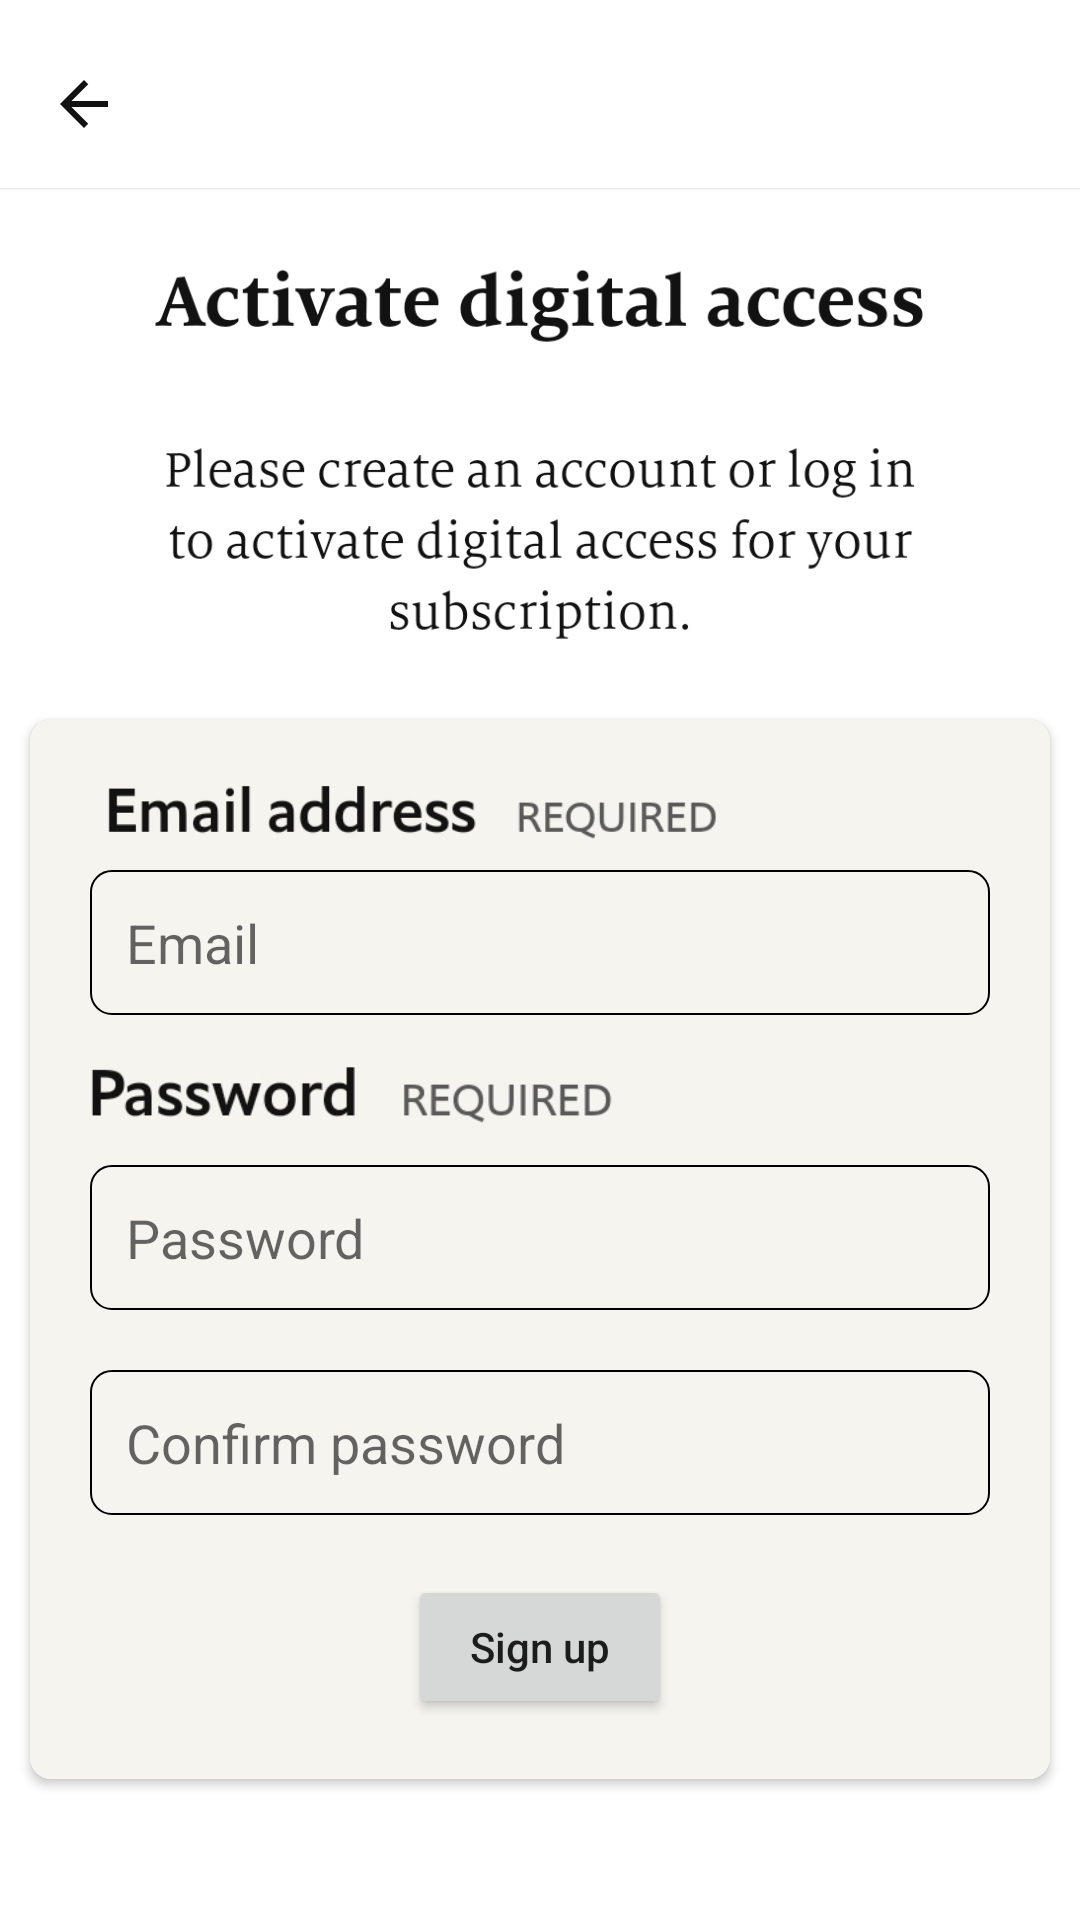

Point at icon controls on the screen. Image size 1080px x 1920px, points as [x,y].
signuparrow: [84,104]
